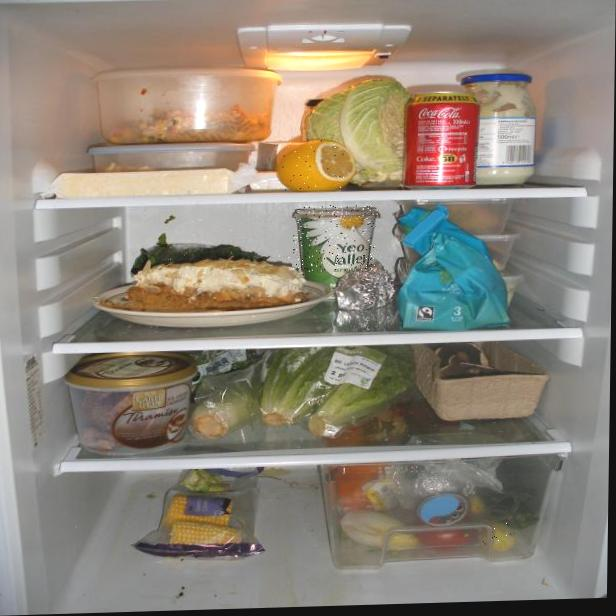lemon: (276, 139, 356, 190), (476, 522, 521, 549)
yoghurt: (293, 204, 378, 272)
